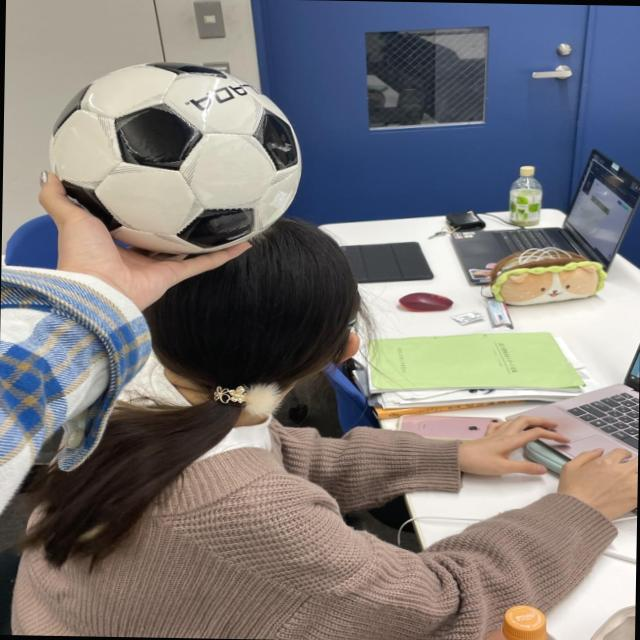Soccer Ball: (52, 60, 303, 255)
